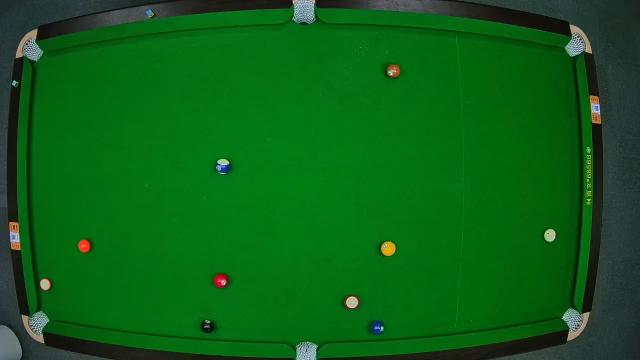bag1: (22, 39, 42, 59)
bag2: (294, 1, 316, 25)
bag3: (566, 34, 586, 56)
bag4: (28, 310, 46, 334)
bag5: (294, 340, 318, 360)
bag6: (562, 308, 584, 332)
ball0: (544, 228, 556, 242)
ball1: (380, 241, 396, 256)
ball10: (215, 158, 232, 176)
ball11: (345, 295, 359, 309)
ball12: (38, 278, 52, 292)
ball2: (370, 320, 386, 336)
ball3: (213, 272, 229, 288)
ball5: (78, 239, 90, 253)
ball7: (388, 64, 400, 78)
ball8: (202, 320, 214, 334)
